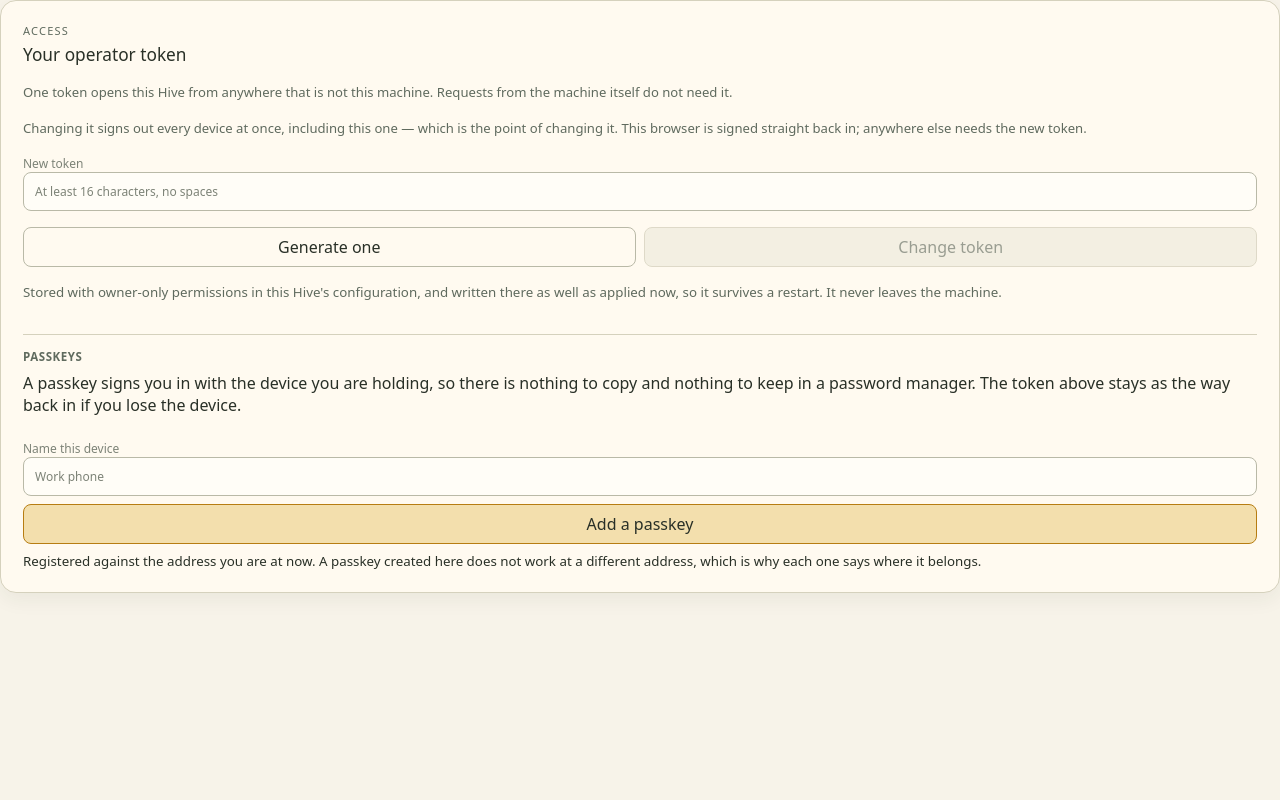
Test: changes the token and signs this device straight back in
This screenshot has width=1280, height=800.
Type "a-much-longer-new-token" into the field labelled "New token" at [640, 191], box [23,172,1257,211]
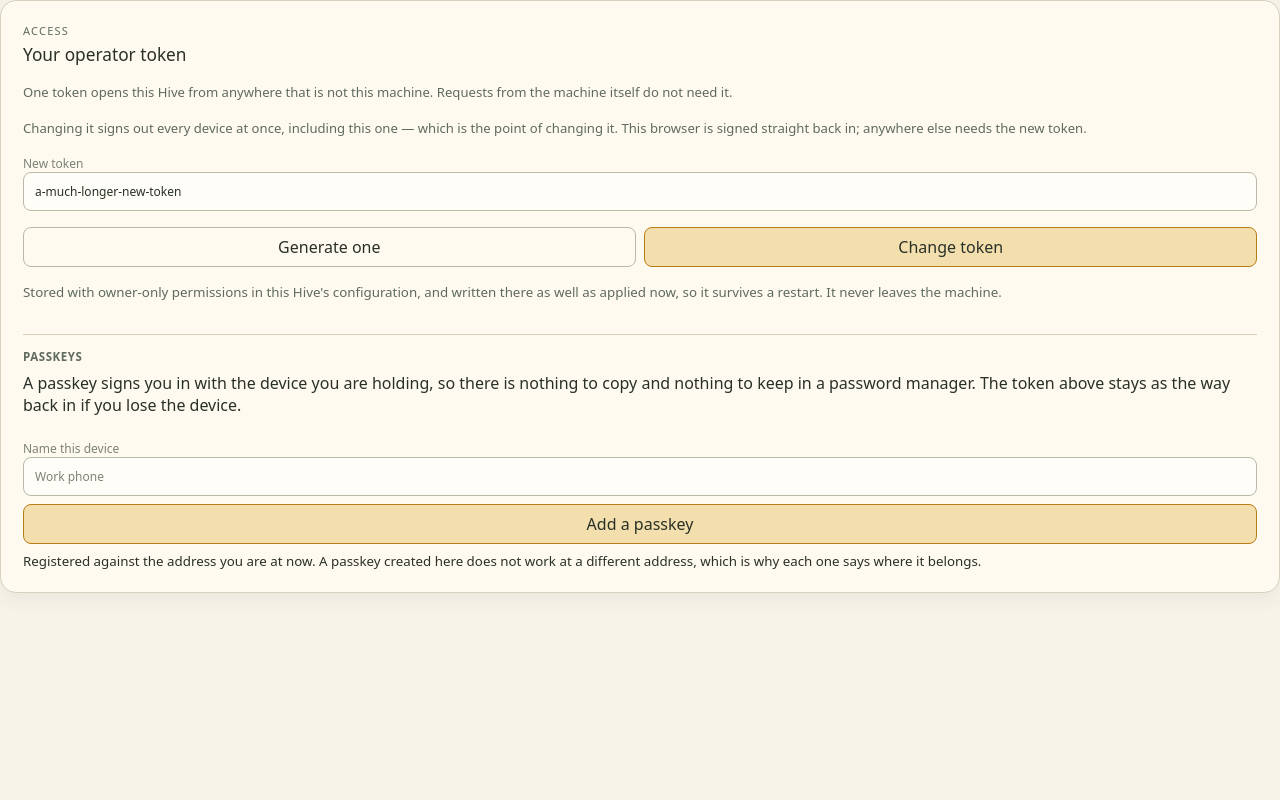
Click the button "Change token" at [951, 247], box [644,227,1257,267]
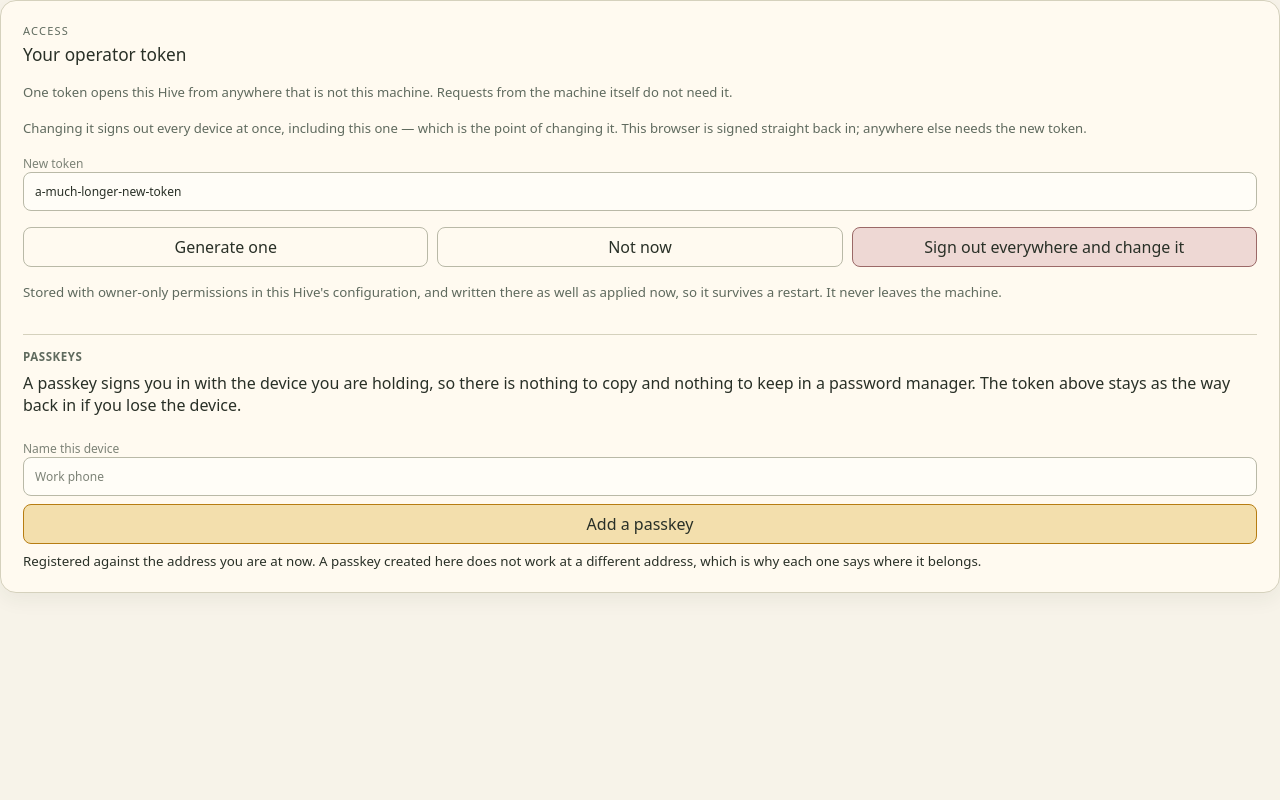
Expected: the button "Sign out everywhere and change it" is shown
Click the button "Sign out everywhere and change it" at [1054, 247], box [852,227,1257,267]
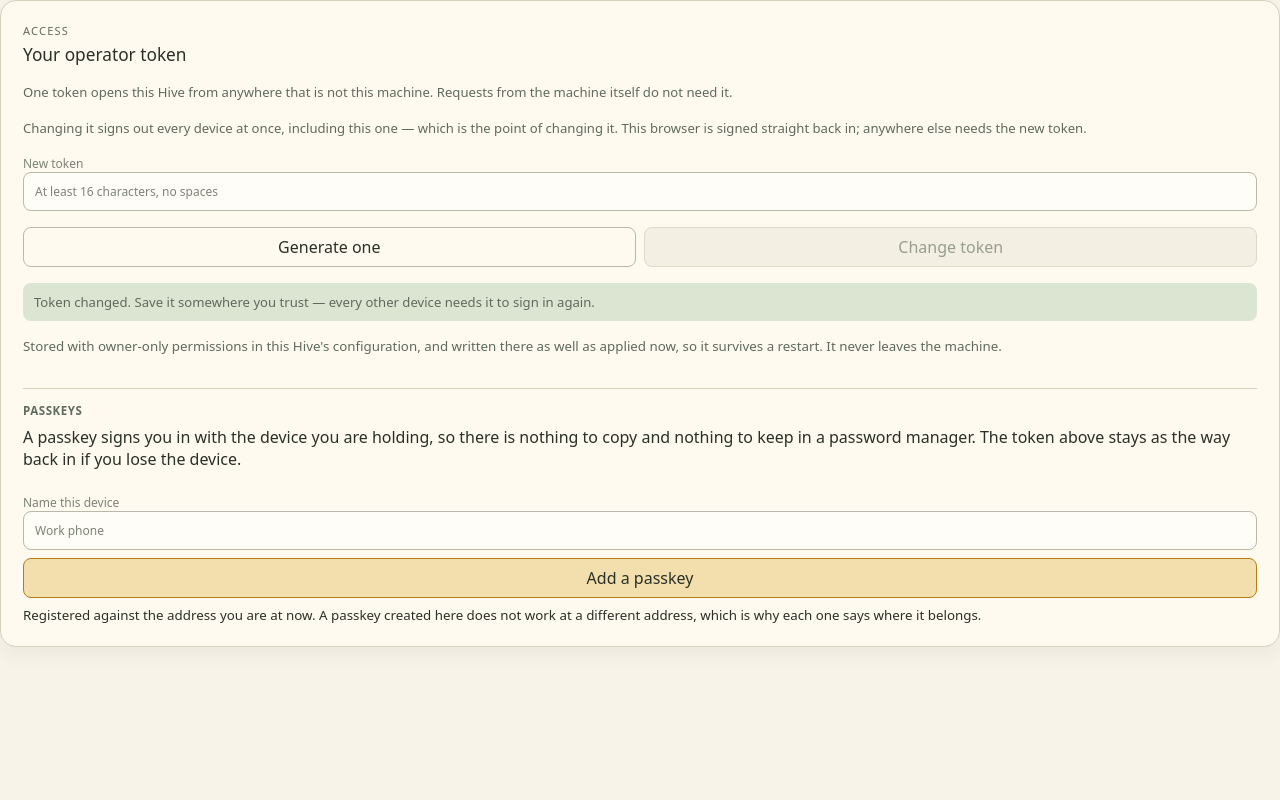
Expected: the text "Token changed" is shown, [34,293,595,311]
